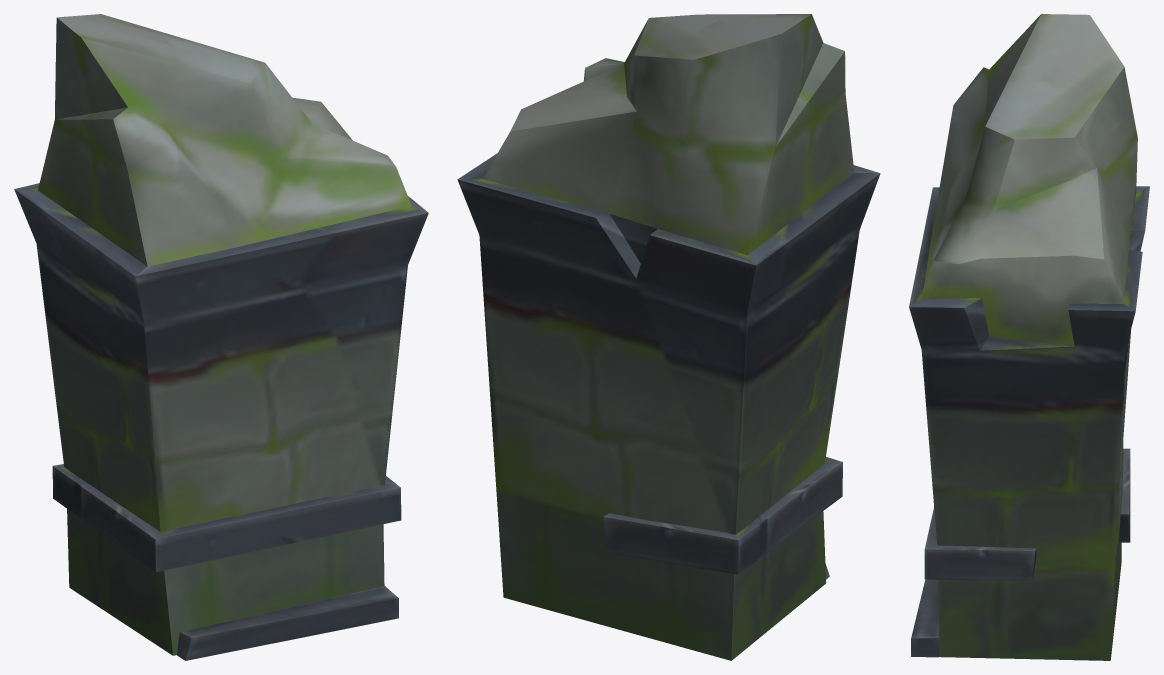
File: scene_shenmisenlin_strone01.FBX
3 views of the same model, side by side, from view 1: azimuth 30°, elevation 25°; view 2: azimuth 150°, elevation 25°; view 3: azimuth 270°, elevation 25° (orthographic). The views are drawn at different scales.
Visible parts, largest first — view 1: scene_shenmisenlin_strone01; view 2: scene_shenmisenlin_strone01; view 3: scene_shenmisenlin_strone01.
Boxes of the visible parts, x1,y1,x2,y2 form: scene_shenmisenlin_strone01: [14, 14, 428, 660]; scene_shenmisenlin_strone01: [457, 14, 880, 660]; scene_shenmisenlin_strone01: [909, 14, 1149, 660].
Bounding box in the file's own units: 80.47 × 155 × 63.37.
